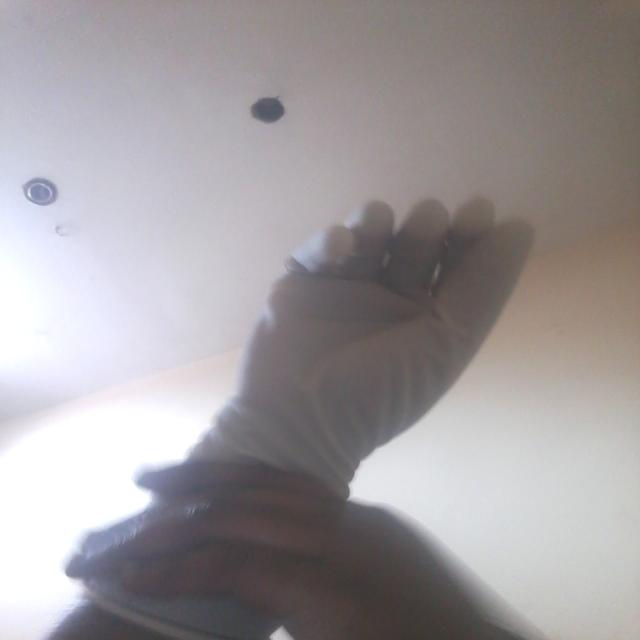glove: (58, 185, 542, 627)
